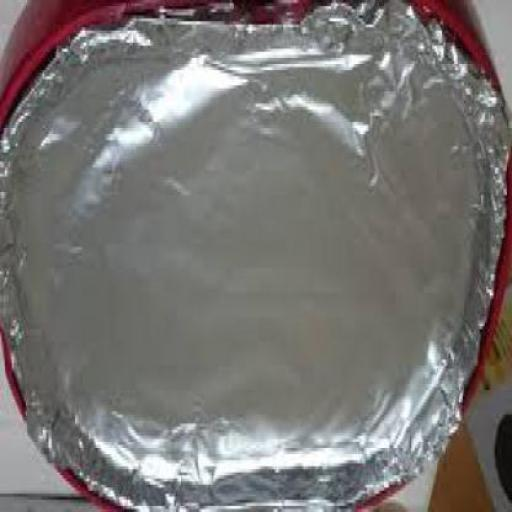metal: (0, 9, 503, 511)
